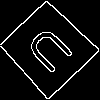U: (24, 24, 82, 83)
